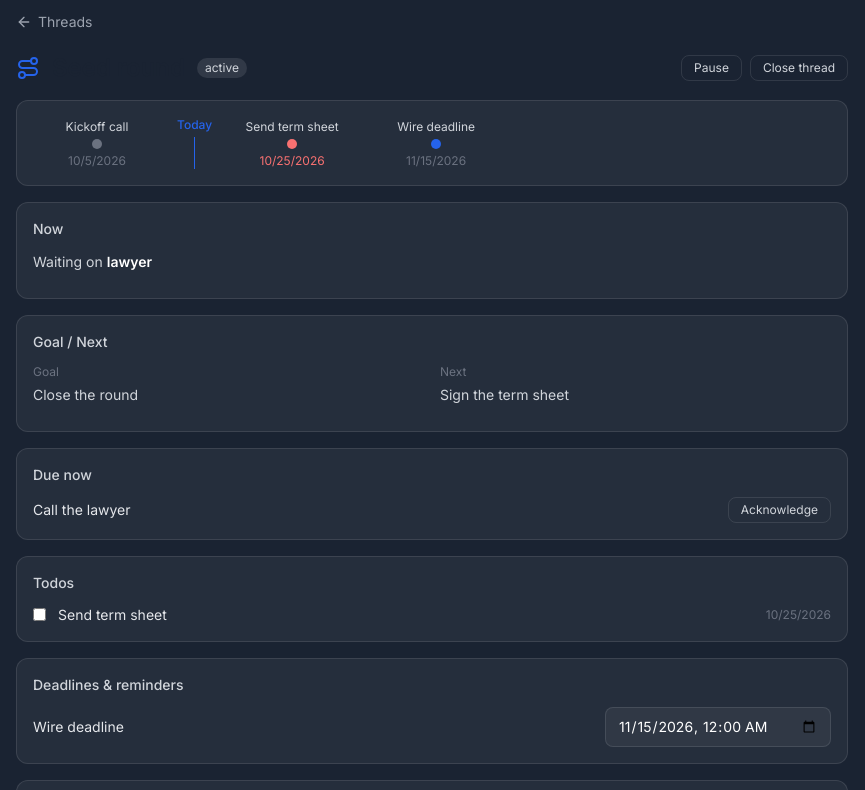
Scenario: ThreadDetail page › a failed todo update shows the error and leaves the checkbox unticked
What coordinates should you click on to do the following:
click the checkbox named "Send term sheet"
I would click on:
 (40, 614)
Its box is [33,608,46,621].
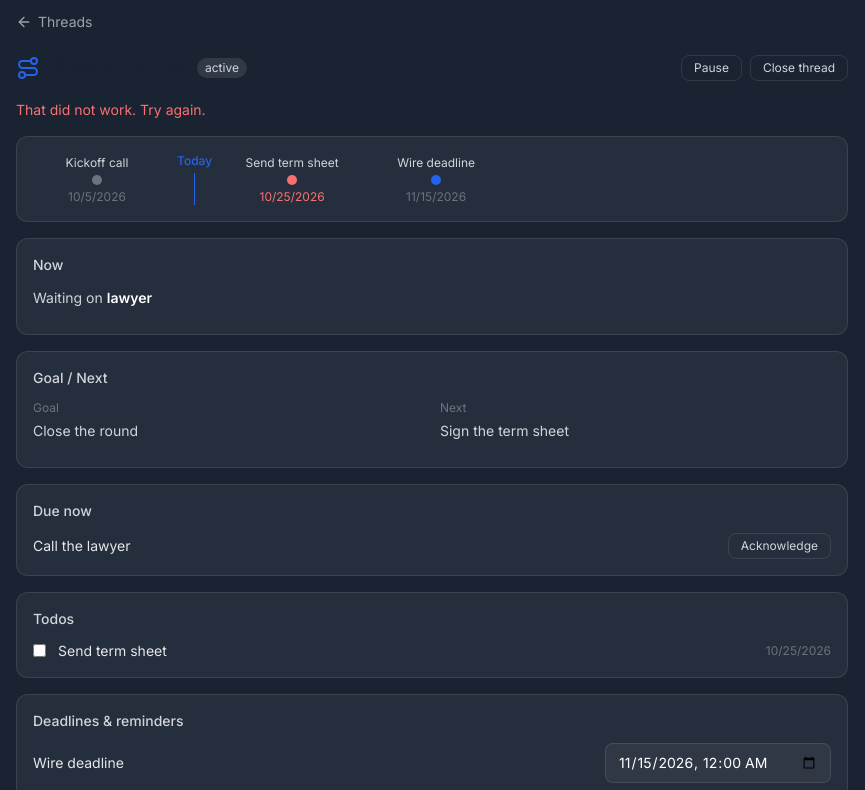
expect the checkbox named "Send term sheet" is not checked: met, box [33,644,46,657]
expect the text "That did not work. Try again." is shown: met, box [16,101,206,118]
